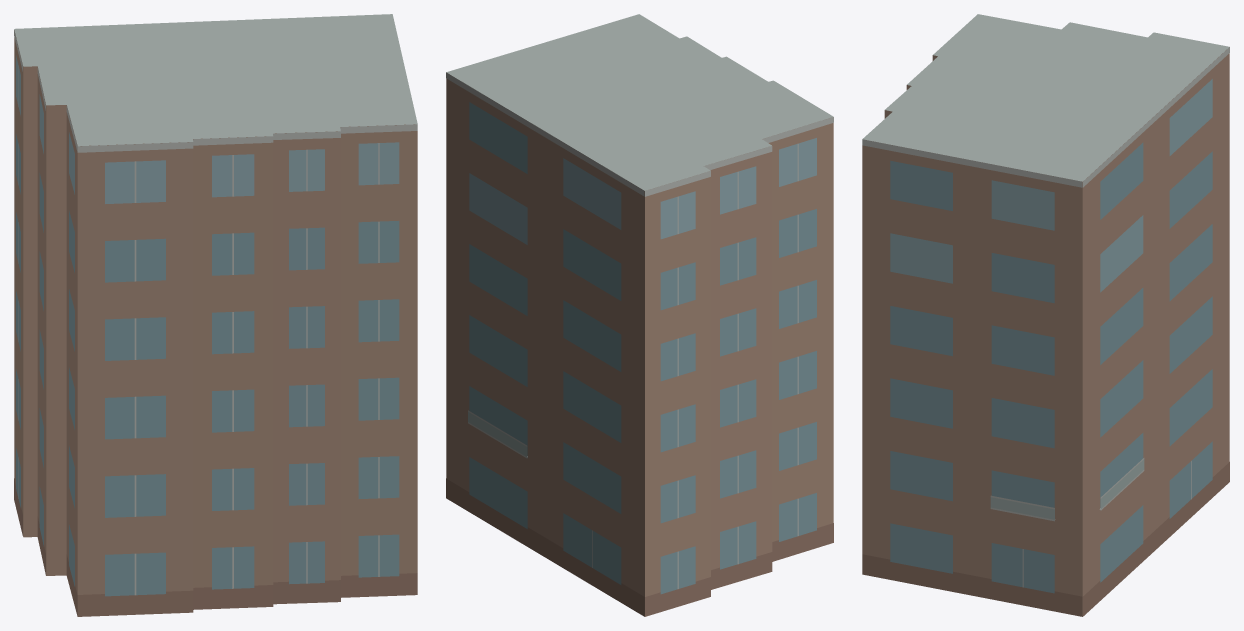
The model's file is survey-upis-32653043.glb.
The picture shows the model from 3 angles, left to right: view 1: azimuth 30°, elevation 25°; view 2: azimuth 150°, elevation 25°; view 3: azimuth 270°, elevation 25°; orthographic projection. The views are drawn at different scales.
Parts seen in each view (by area): view 1: survey-upis-32653043.tmp; view 2: survey-upis-32653043.tmp; view 3: survey-upis-32653043.tmp.
Part boxes in pixels (<box>): survey-upis-32653043.tmp: <box>14,14,417,616</box>; survey-upis-32653043.tmp: <box>446,14,833,616</box>; survey-upis-32653043.tmp: <box>862,14,1229,616</box>.
Size of the model in its own units: 14.35 by 17.36 by 13.3.
